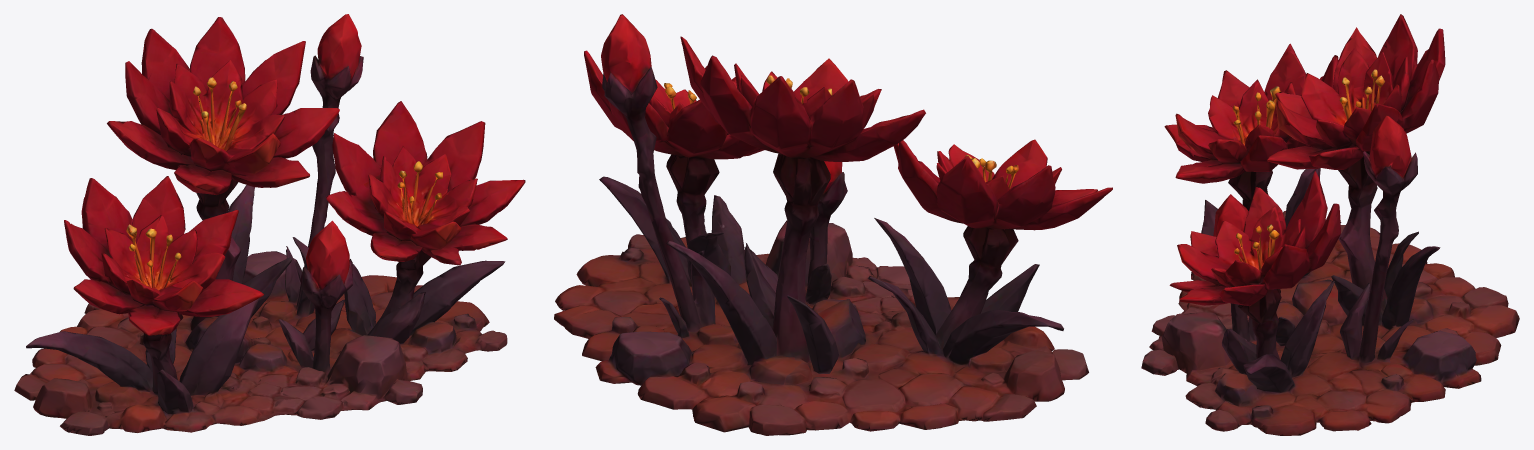
Rendered from ember_lily.glb.
3 views of the same model, side by side, from view 1: azimuth 30°, elevation 25°; view 2: azimuth 150°, elevation 25°; view 3: azimuth 270°, elevation 25° (orthographic). The views are drawn at different scales.
Parts seen in each view (by area): view 1: tripo_node_c7ddd911-12eb-4e6e-abda-0e5942226ae0; view 2: tripo_node_c7ddd911-12eb-4e6e-abda-0e5942226ae0; view 3: tripo_node_c7ddd911-12eb-4e6e-abda-0e5942226ae0.
Part boxes in pixels (<box>): tripo_node_c7ddd911-12eb-4e6e-abda-0e5942226ae0: <box>14,14,525,435</box>; tripo_node_c7ddd911-12eb-4e6e-abda-0e5942226ae0: <box>554,14,1112,435</box>; tripo_node_c7ddd911-12eb-4e6e-abda-0e5942226ae0: <box>1141,14,1519,435</box>.
Bounding box in the file's own units: 0.9528 × 0.5839 × 0.6982.
1 material, 1 textured.
